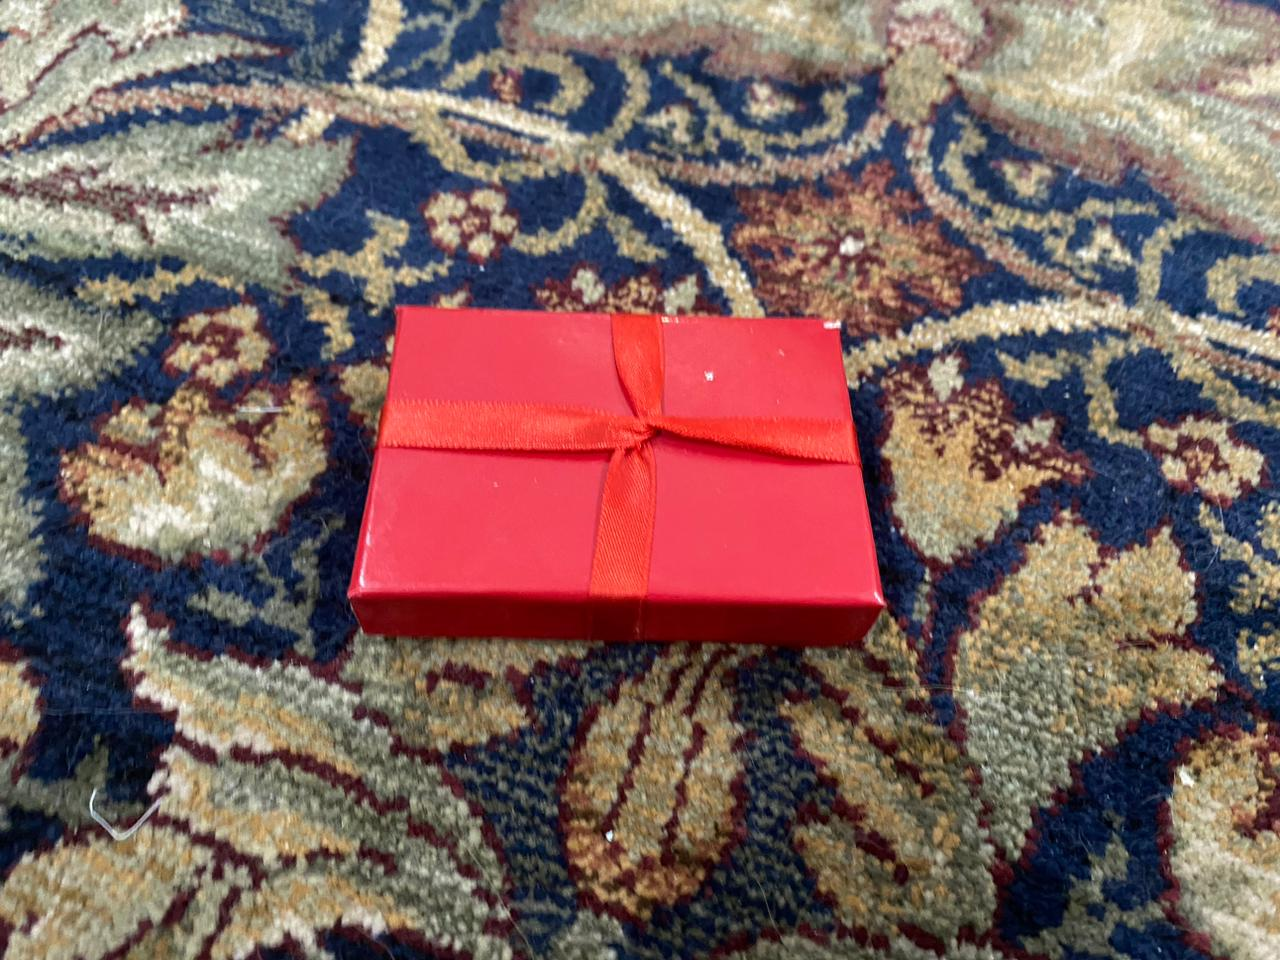Red Box: (346, 299, 888, 685)
